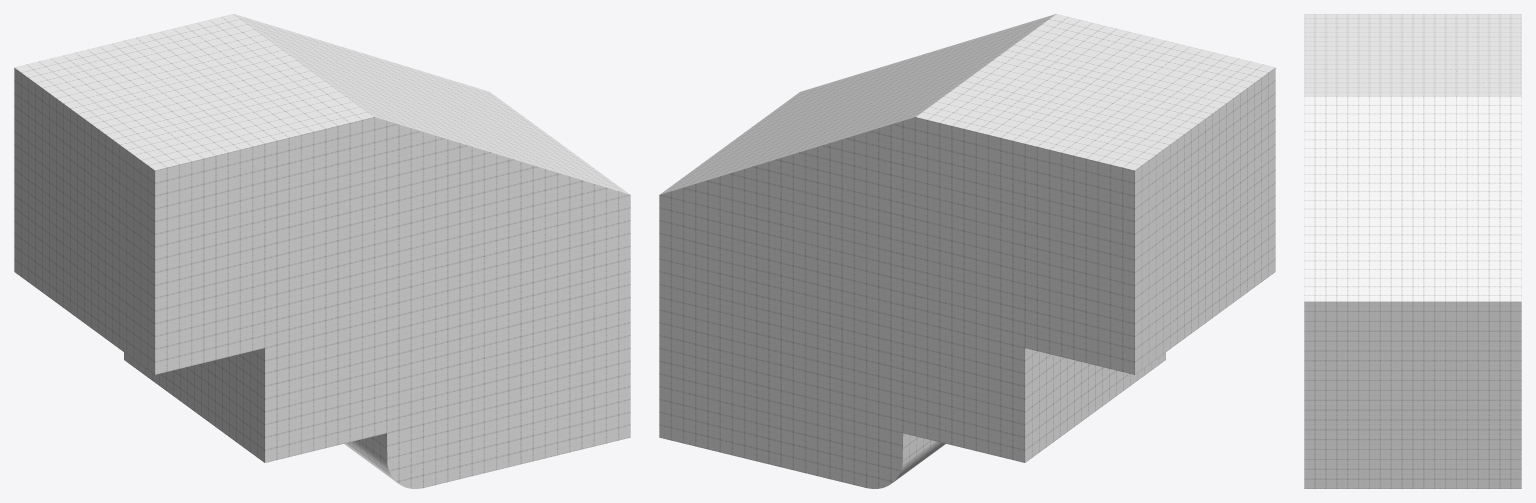
The model's file is Level.fbx.
3 renders of one model, left to right at view 1: azimuth 30°, elevation 25°; view 2: azimuth 150°, elevation 25°; view 3: azimuth 270°, elevation 25°, orthographic. The views are drawn at different scales.
Visible parts, largest first — view 1: Arch; view 2: Arch; view 3: Arch.
Part boxes in pixels (x1,y1,x2,y2): Arch: [14, 14, 630, 488]; Arch: [659, 14, 1275, 488]; Arch: [1304, 14, 1521, 488].
Size of the model in its own units: 3900 by 3000 by 2000.
1 material, 1 textured.
